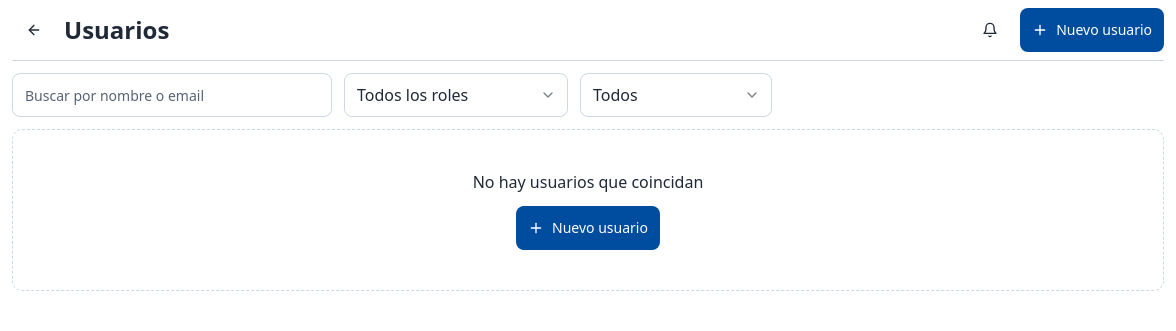
UserListPage › shows the empty state with the create action and navigates to the form
This screenshot has width=1176, height=331.
Expected: the text "No hay usuarios que coincidan" is shown, 473,170 -> 703,194
What coordinates should you click on to do the following:
click the button "Nuevo usuario" below "No hay usuarios que coincidan"
I would click on:
 (588, 228)
Its box is 516,206 -> 660,250.
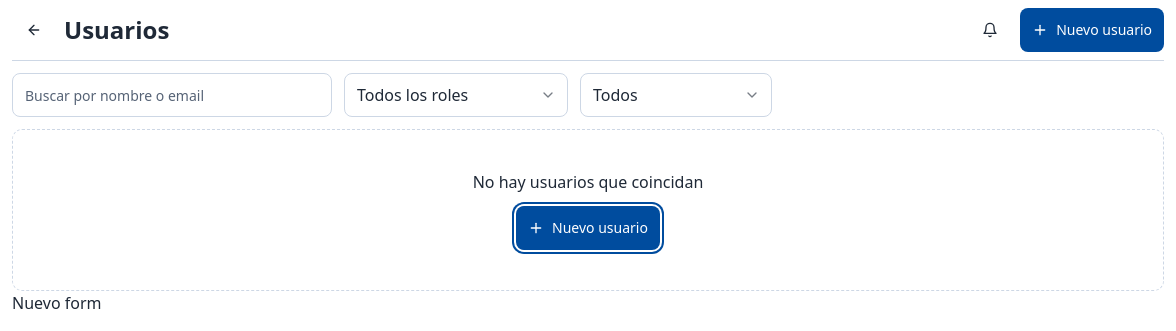
Expected: the text "Nuevo form" is shown, 12,292 -> 102,314
